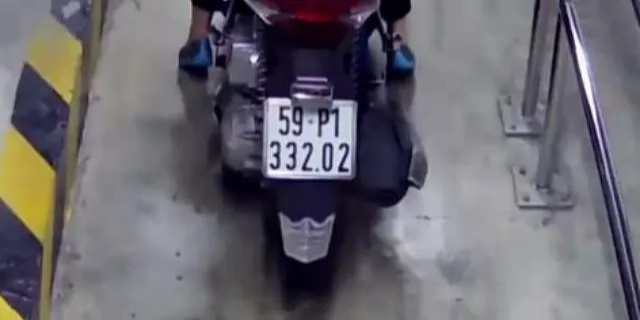bien_so: (264, 94, 359, 181)
